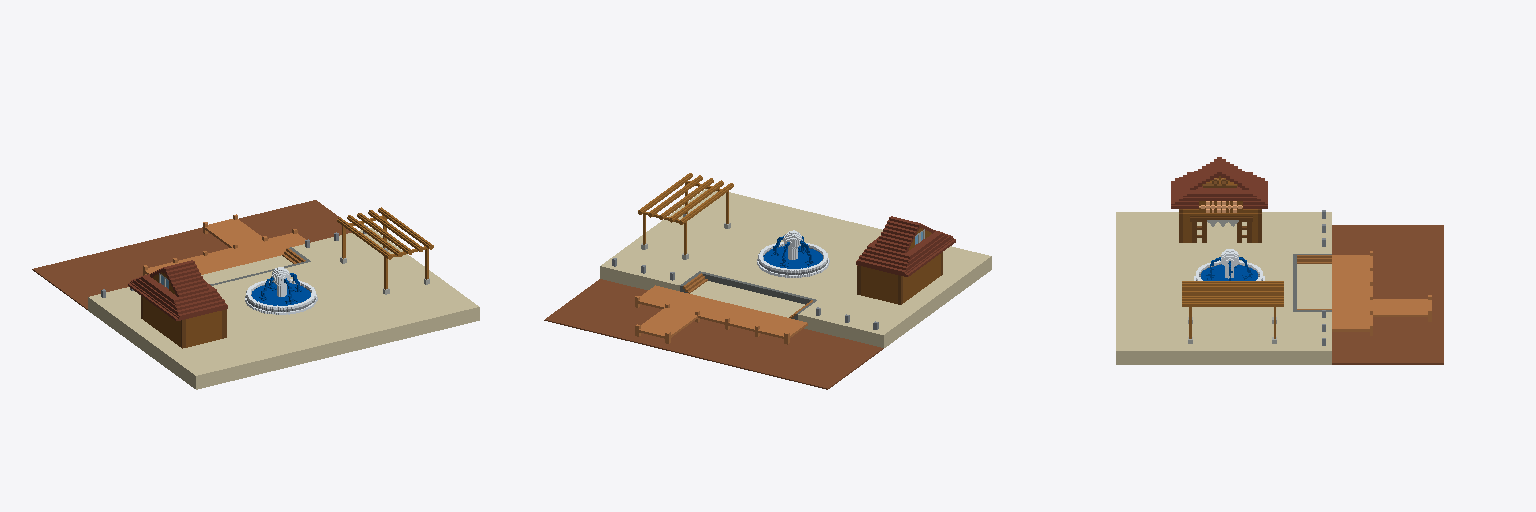
3 views of the same model, side by side, from view 1: azimuth 30°, elevation 25°; view 2: azimuth 150°, elevation 25°; view 3: azimuth 270°, elevation 25° (orthographic).
Visible parts, largest first — view 1: object 1; view 2: object 1; view 3: object 1.
Boxes of the visible parts, box(x1,y1,x2,y2) form: object 1: box(32, 200, 479, 389); object 1: box(544, 173, 991, 389); object 1: box(1116, 157, 1443, 364).
Bounding box in the file's own units: 25.6 × 6.8 × 25.6.
1 materials, 1 textured.